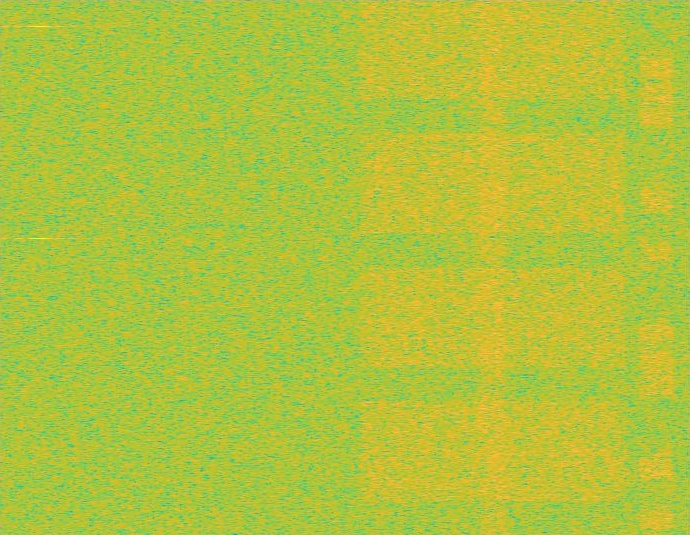5G: (355, 0, 631, 534)
DSSS: (474, 0, 512, 534)
LTE: (639, 0, 674, 534)
Radar: (33, 0, 47, 534)
